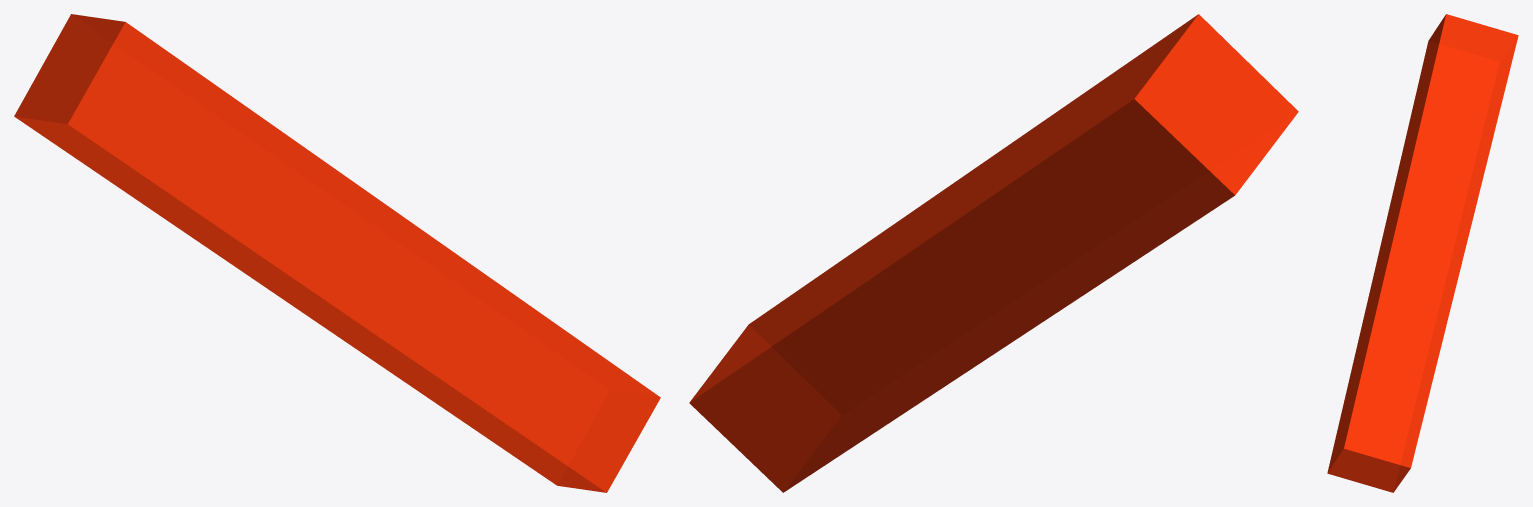
The model's file is Event_420604493_EBrechit_4.fbx.
The picture shows the model from 3 angles, left to right: view 1: azimuth 30°, elevation 25°; view 2: azimuth 150°, elevation 25°; view 3: azimuth 270°, elevation 25°; orthographic projection. The views are drawn at different scales.
Visible parts, largest first — view 1: Model; view 2: Model; view 3: Model.
Boxes of the visible parts, box(x1,y1,x2,y2) form: Model: box(14, 14, 660, 492); Model: box(689, 14, 1298, 492); Model: box(1327, 14, 1518, 492).
Bounding box in the file's own units: 0.323 × 0.3091 × 0.1523.
